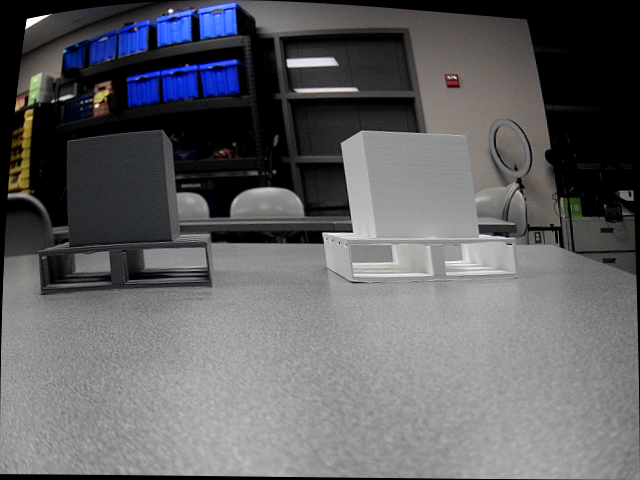grey pallet: (34, 126, 217, 298)
white pallet: (318, 128, 524, 291)
